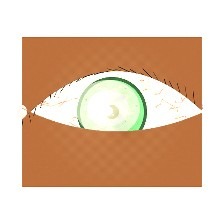corneal_ulcer: (74, 81, 141, 135)
